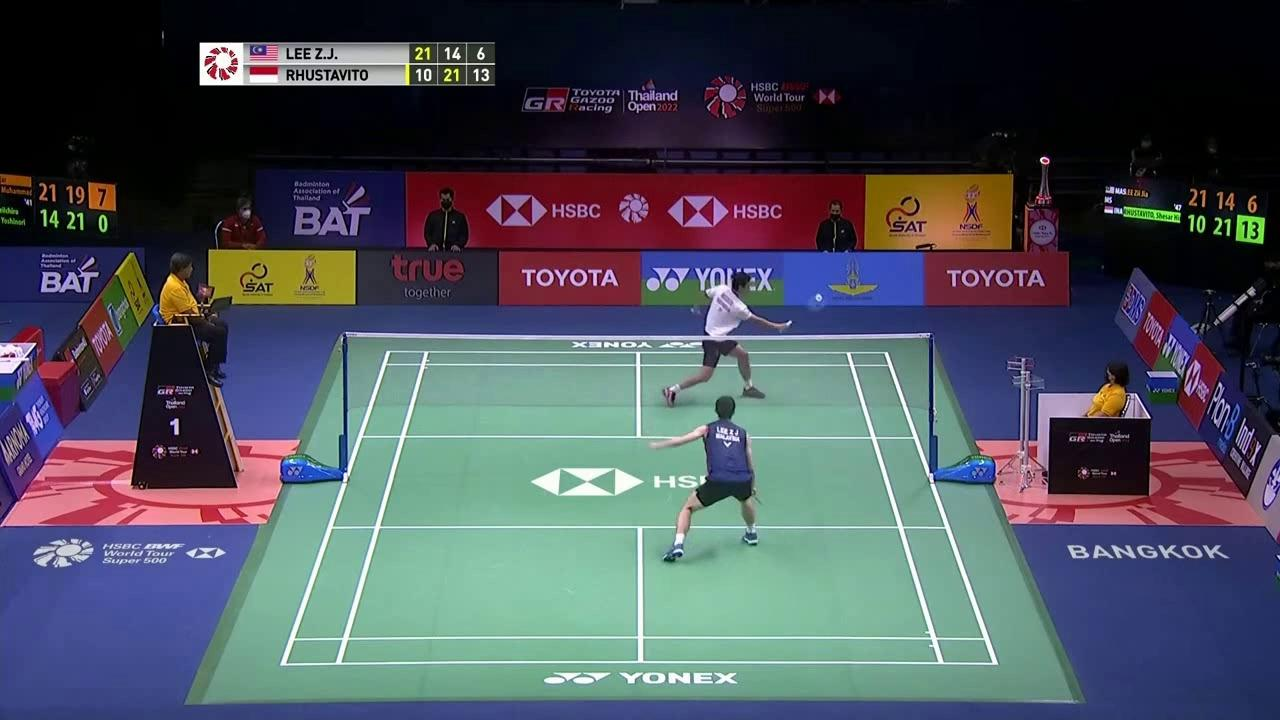racket: (781, 290, 828, 328), (748, 487, 767, 509)
shuttle: (815, 293, 823, 303)
